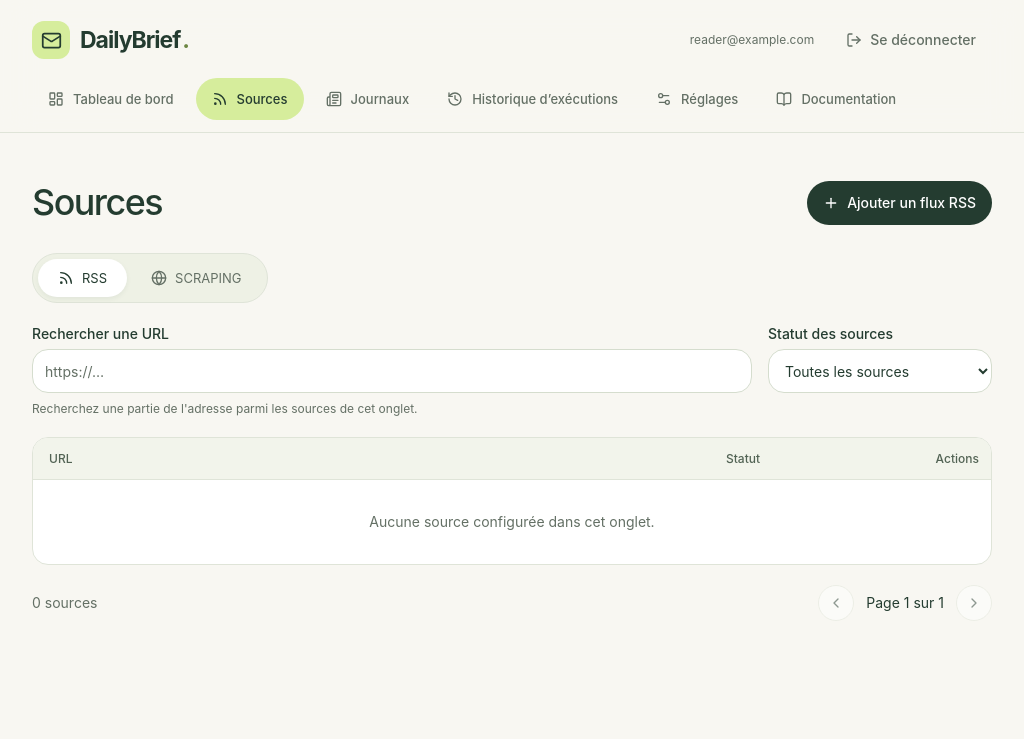
opens scraping from the sources page and validates URL and selectors
Click the tab "SCRAPING" at (196,278), box [131, 259, 262, 297]
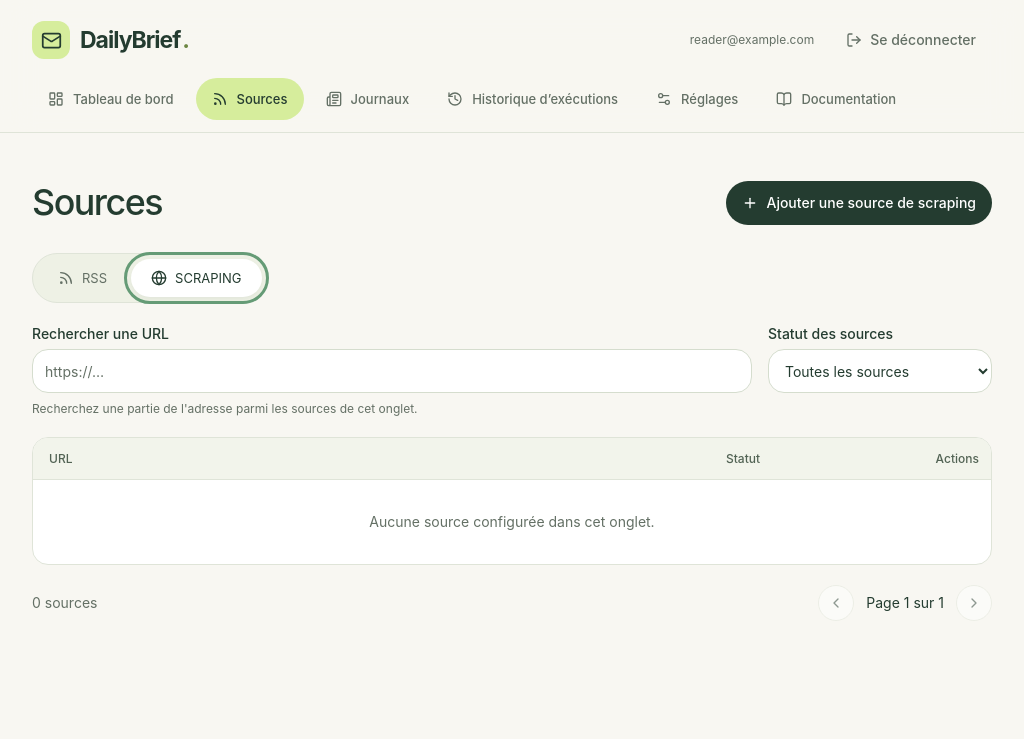
Click the link "Ajouter une source de scraping" at (859,203), box [726, 181, 992, 225]
(page scrolled)
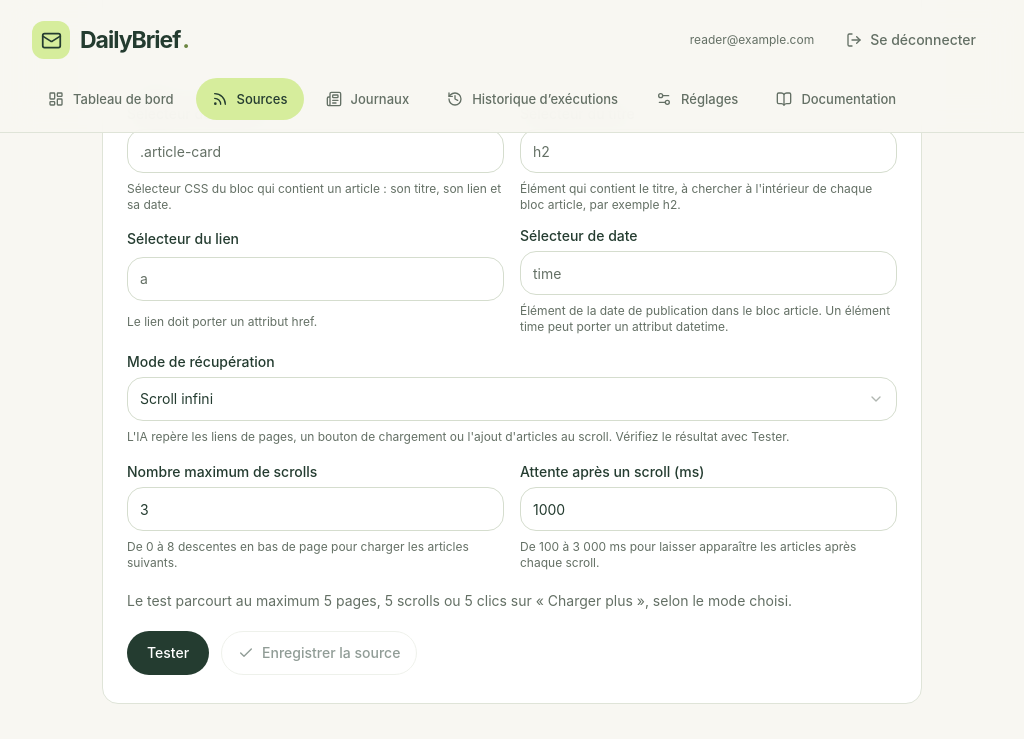
Click the button "Tester" at (168,653), box [127, 631, 209, 675]
(page scrolled)
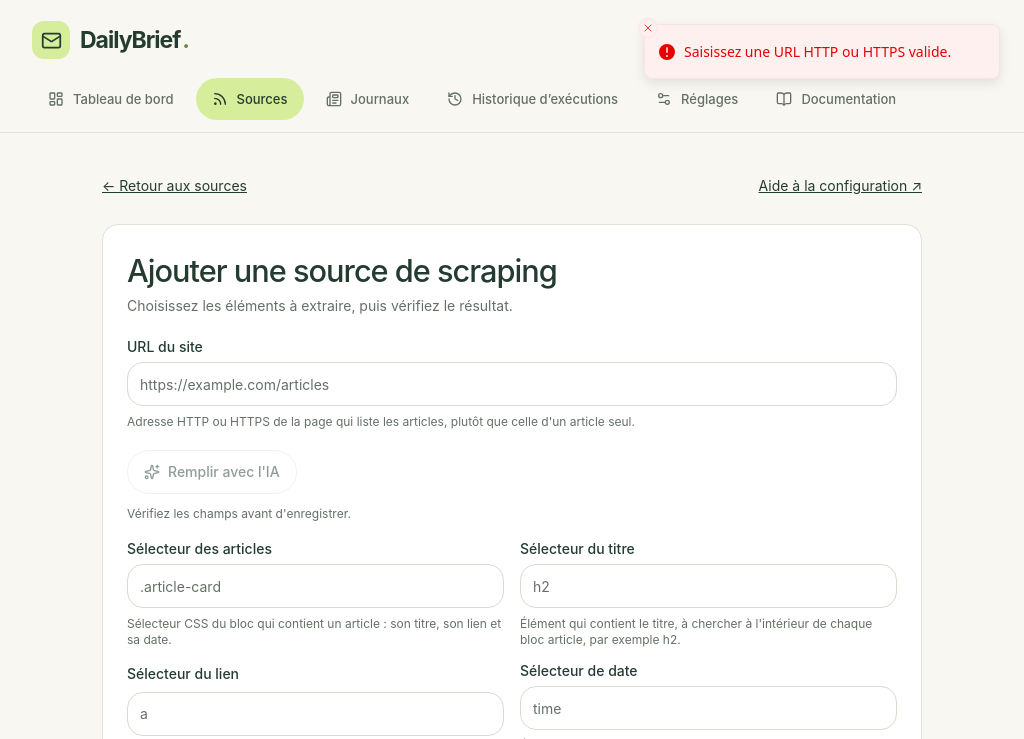
expect the message shows "URL HTTP": met, box [684, 42, 951, 61]
Type "https://example.com" into the field labelled "URL du site" at (512,384), box [127, 362, 897, 406]
(page scrolled)
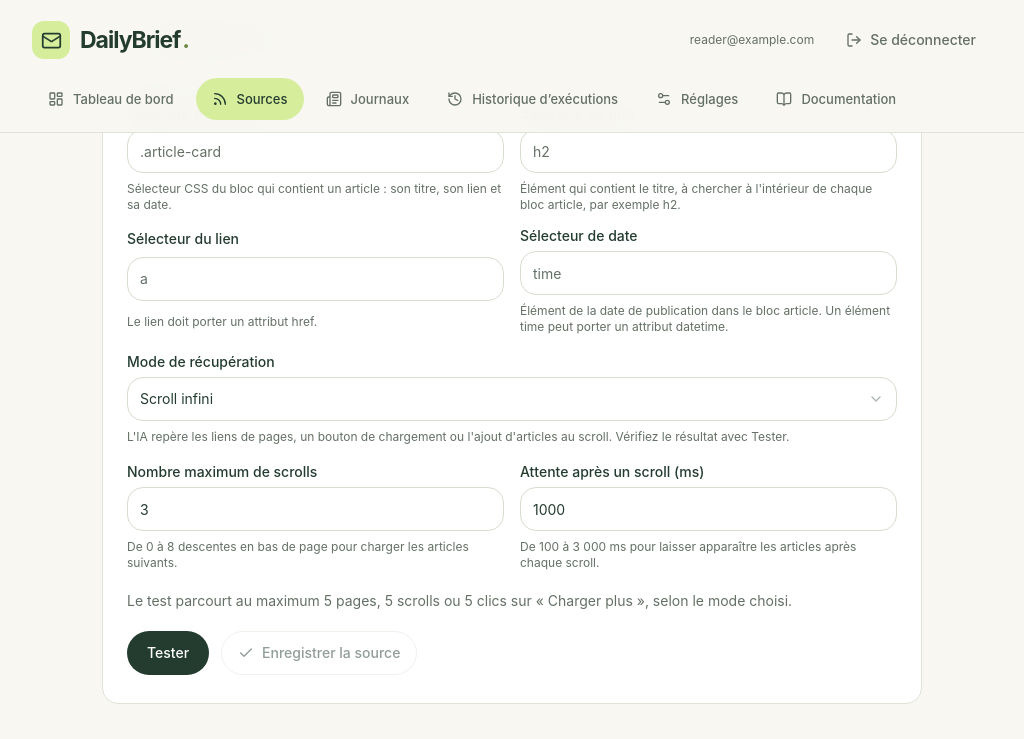
Click the button "Tester" at (168,653), box [127, 631, 209, 675]
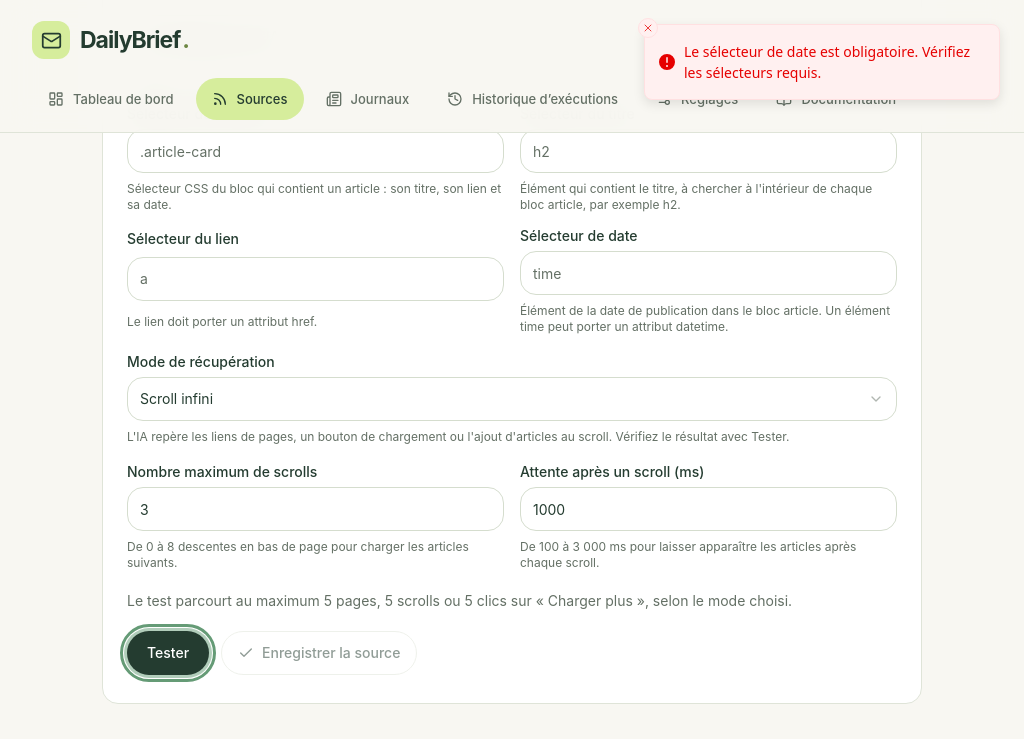
expect the message shows "sélecteurs requis": met, box [684, 42, 970, 82]
